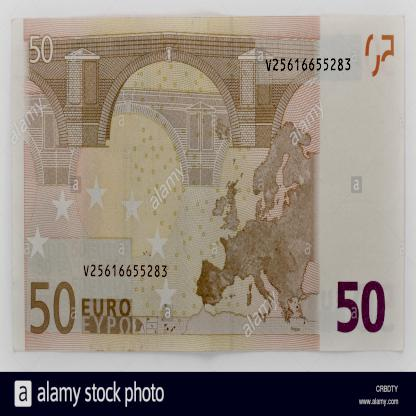euro_banknote: (8, 20, 405, 351)
